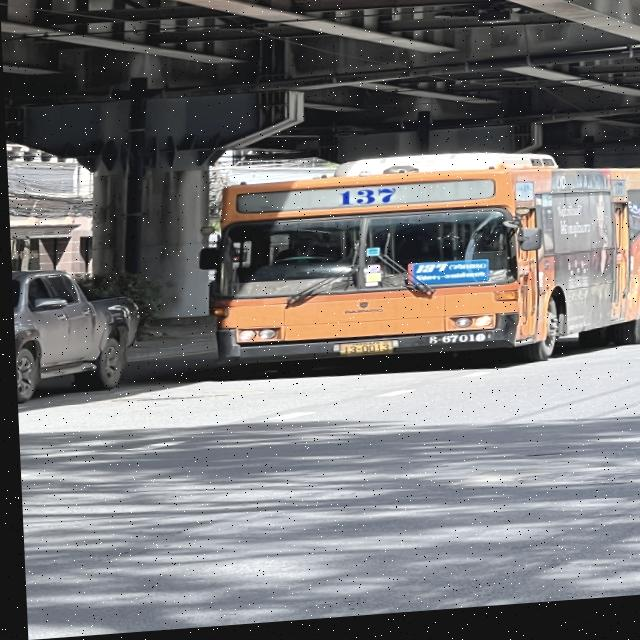BMTA-bus: (195, 151, 640, 389)
Bus-Line-Number: (336, 193, 397, 215)
Destination-Sign-Normal: (411, 265, 486, 293)
